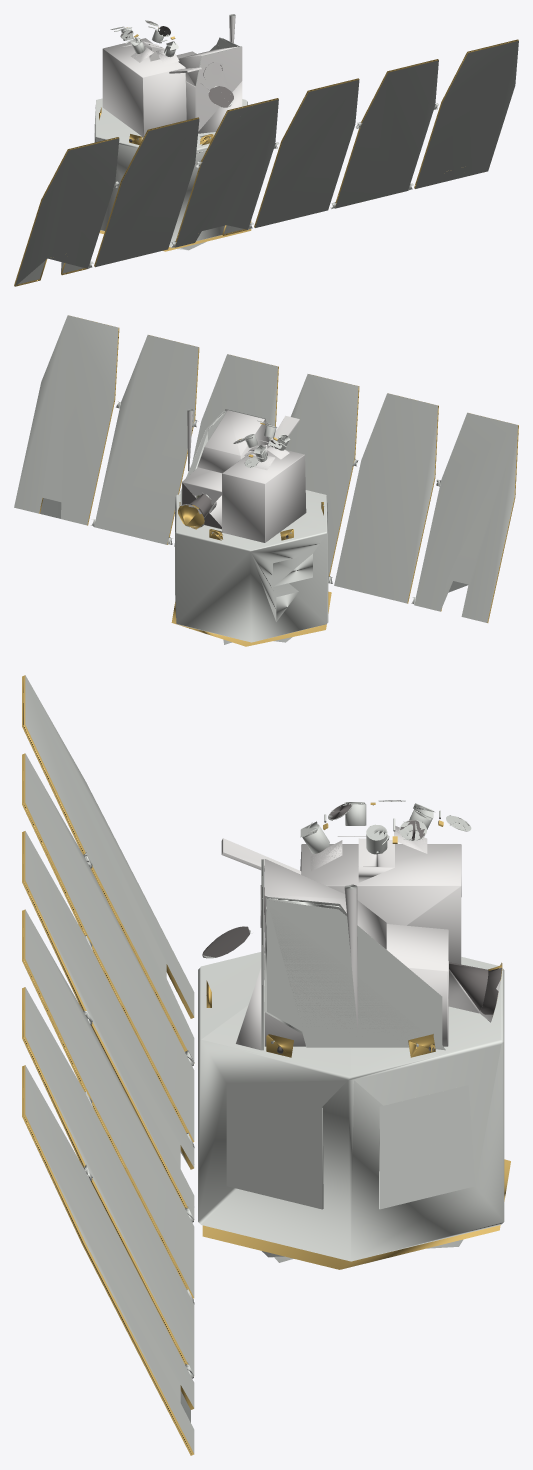
Rendered from aeronomy-of-ice-in-the-mesosphere.glb.
The picture shows the model from 3 angles, top to bottom: view 1: azimuth 30°, elevation 25°; view 2: azimuth 150°, elevation 25°; view 3: azimuth 270°, elevation 25°; orthographic projection. The views are drawn at different scales.
Parts seen in each view (by area): view 1: Fake; view 2: Fake; view 3: Fake.
Part boxes in pixels (left/top/right/bottom): Fake: left=14, top=14, right=518, bottom=286; Fake: left=14, top=315, right=518, bottom=646; Fake: left=22, top=675, right=510, bottom=1455.
Bounding box in the file's own units: 41.4 × 16.6 × 18.53.
1 material, 1 textured.
